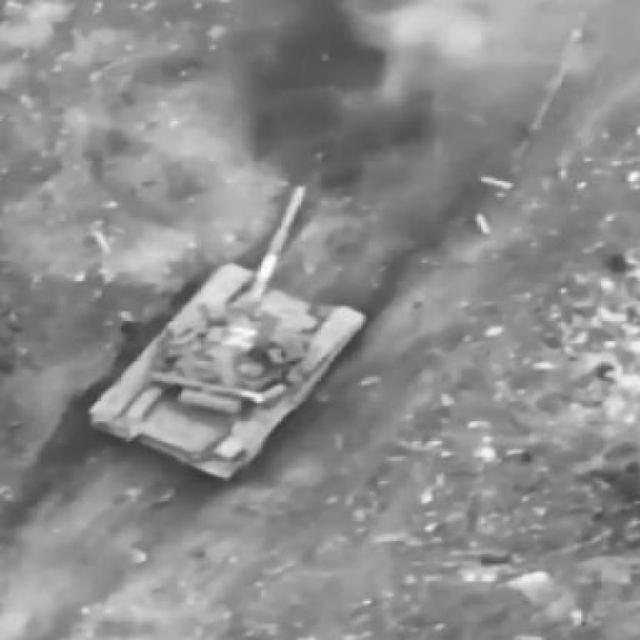Tank: (85, 183, 382, 488)
